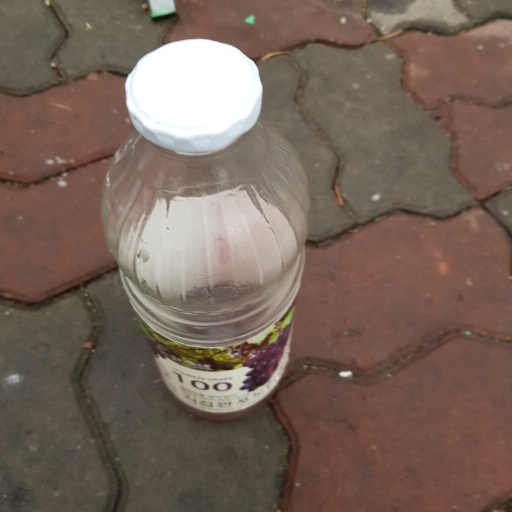Glass_4: (98, 37, 314, 421)
